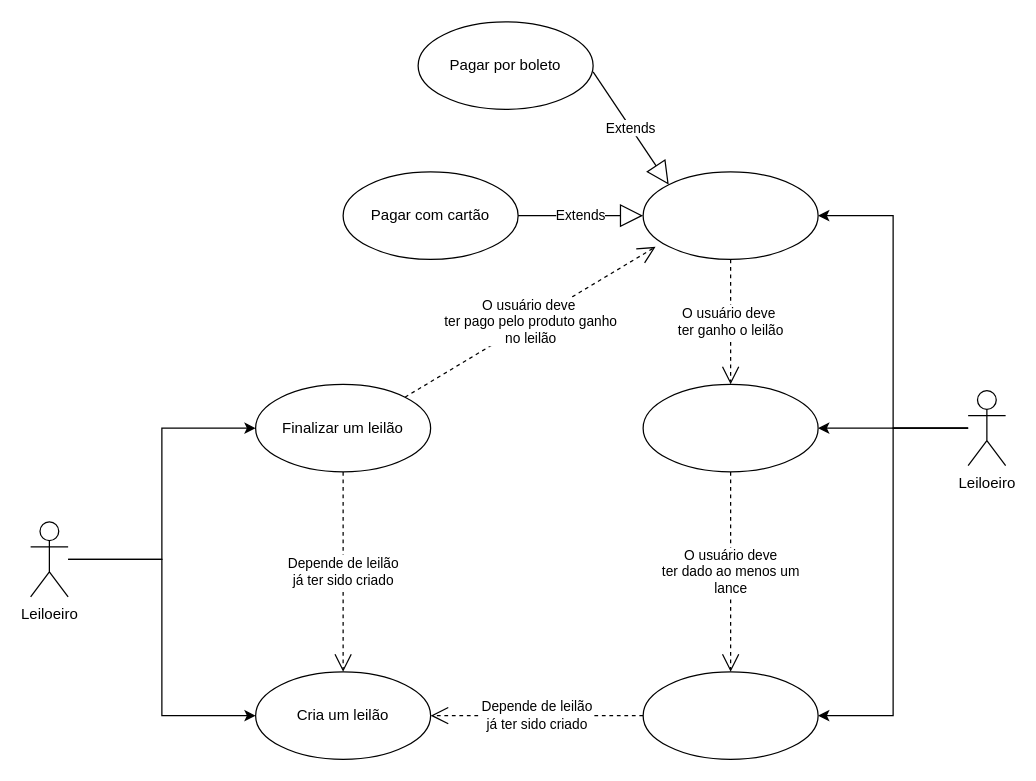
The diagram is 1036 pixels wide and 781 high, and some of its shapes have lost their labels. The shapes that lost their labels are listed below. From the top down, each one's centre as x and y in pixels, then its label:
point (730, 215): Pagar pelo produto
point (730, 427): Ganhar um leilão
point (730, 715): Dar lances
